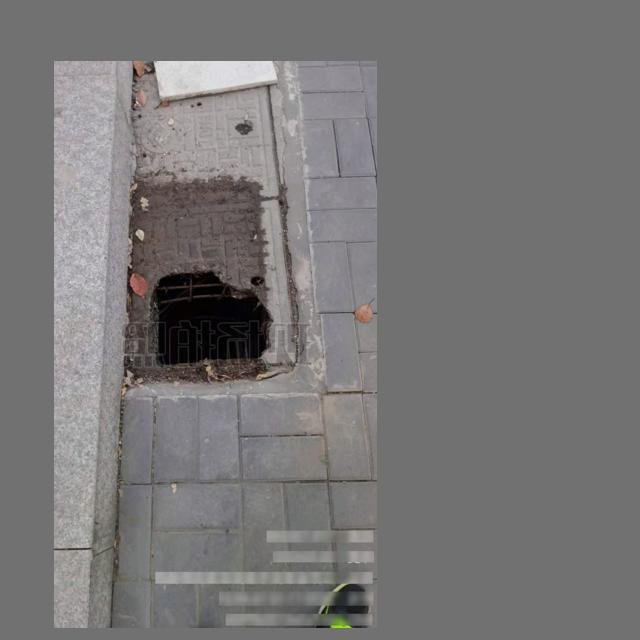broke: (105, 134, 292, 388)
